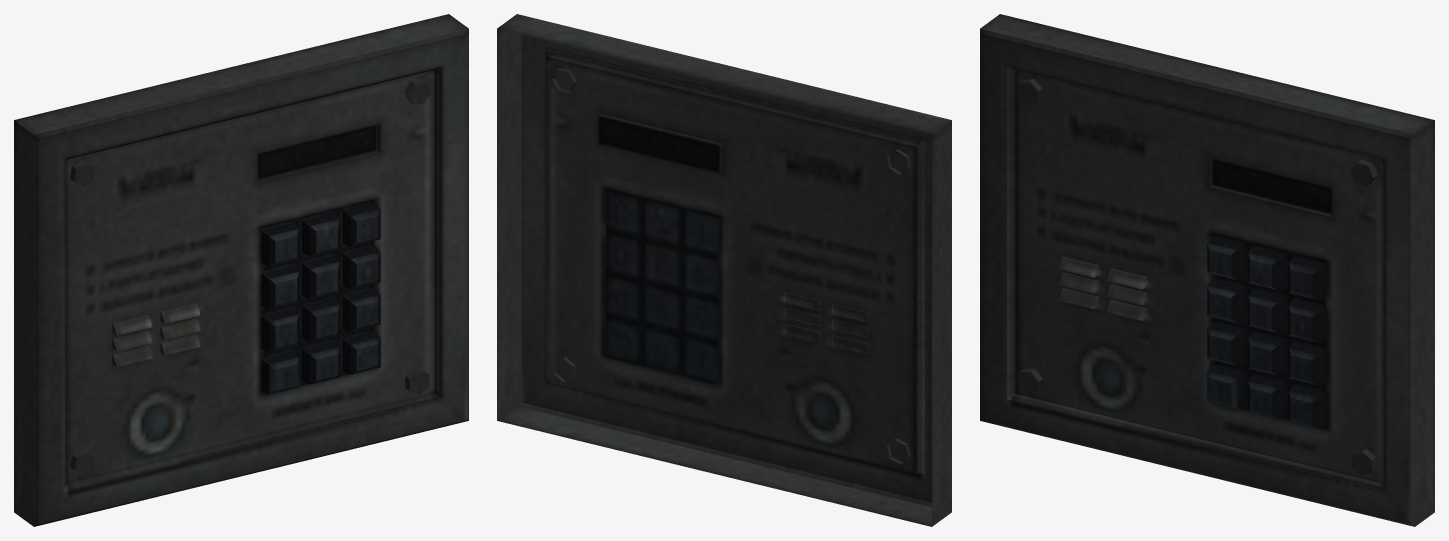
Rendered from keypad_1.obj.
The picture shows the model from 3 angles, left to right: view 1: azimuth 30°, elevation 25°; view 2: azimuth 150°, elevation 25°; view 3: azimuth 330°, elevation 25°; orthographic projection.
Visible parts, largest first — view 1: keypad_1; view 2: keypad_1; view 3: keypad_1.
Part boxes in pixels (bbox=[...]): keypad_1: bbox=[14, 14, 468, 526]; keypad_1: bbox=[497, 14, 951, 526]; keypad_1: bbox=[980, 14, 1434, 526].
Bounding box in the file's own units: 0.29 × 0.25 × 0.03.
